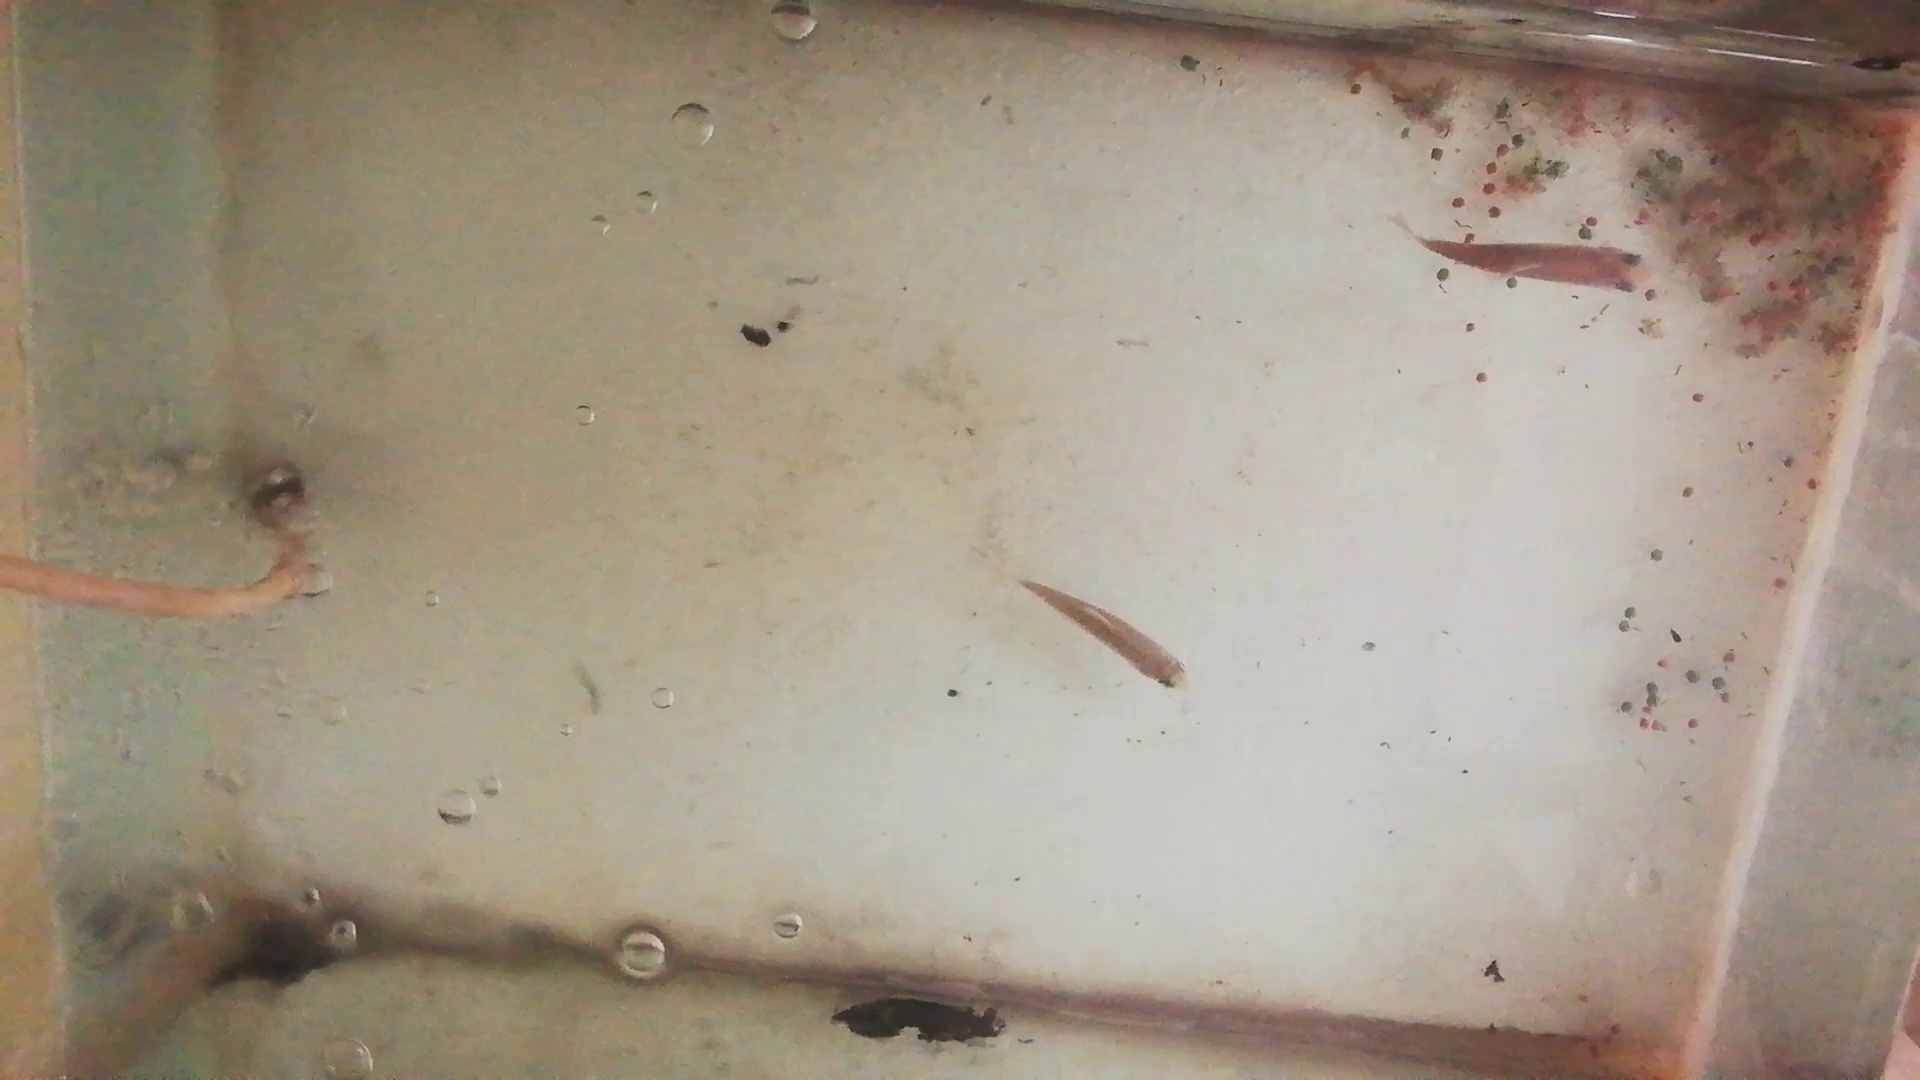fish: (1015, 575, 1192, 698), (1419, 231, 1652, 298)
